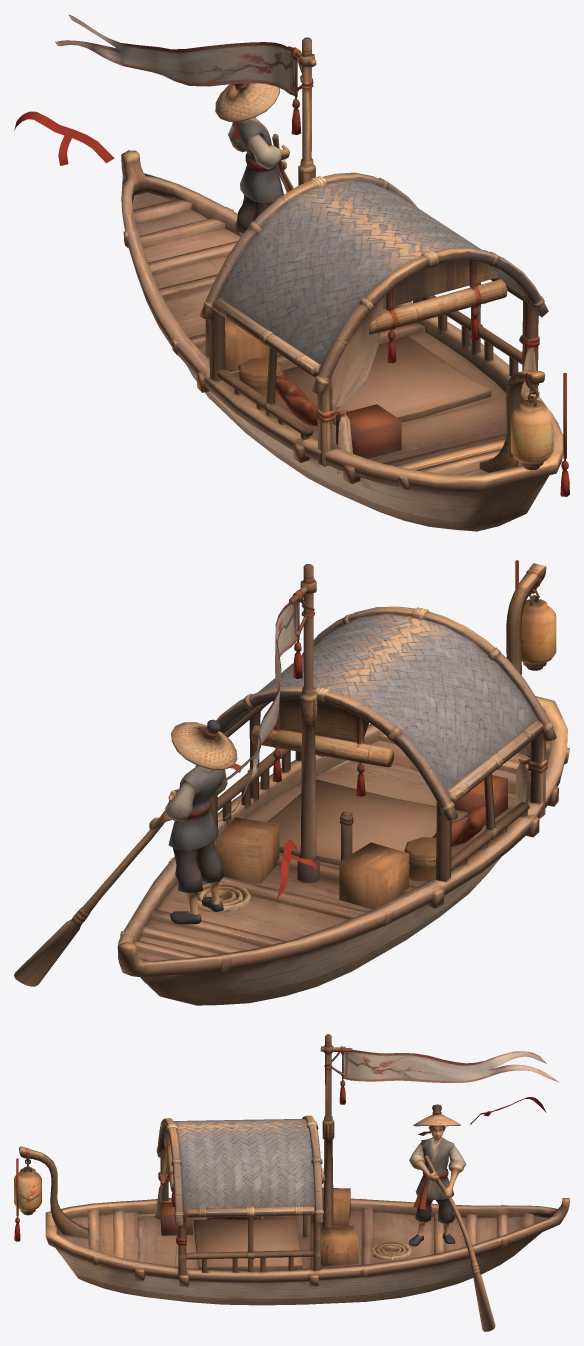
Rendered from boat_cursor.glb.
3 views of the same model, one above another, from view 1: azimuth 30°, elevation 25°; view 2: azimuth 150°, elevation 25°; view 3: azimuth 270°, elevation 25° (orthographic). The views are drawn at different scales.
Parts seen in each view (by area): view 1: tripo_node_ce307492-fd74-47cc-b5b4-2397c038d7f3; view 2: tripo_node_ce307492-fd74-47cc-b5b4-2397c038d7f3; view 3: tripo_node_ce307492-fd74-47cc-b5b4-2397c038d7f3.
Part boxes in pixels (<box>): tripo_node_ce307492-fd74-47cc-b5b4-2397c038d7f3: <box>14,14,569,531</box>; tripo_node_ce307492-fd74-47cc-b5b4-2397c038d7f3: <box>14,560,569,1005</box>; tripo_node_ce307492-fd74-47cc-b5b4-2397c038d7f3: <box>14,1034,569,1331</box>.
Bounding box in the file's own units: 0.4185 × 0.5063 × 0.9995.
1 material, 1 textured.
